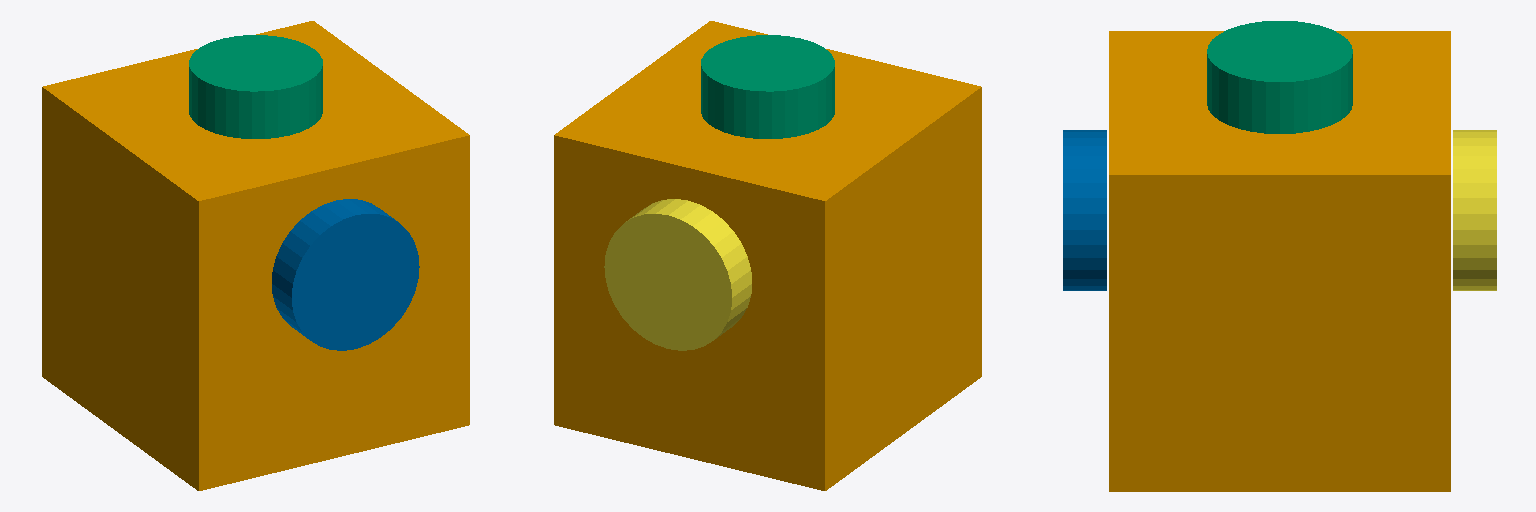
URDF robot description (TurtleBot3Burger):
<?xml version="1.0" ?>
<robot name="TurtleBot3Burger">
    <link name="base_link">
        <visual>
            <origin xyz="0 0 0" rpy="0 0 0"/>
            <geometry>
                <box size="0.140 0.140 0.143"/>
            </geometry>
        </visual>
        <collision>
            <origin xyz="0 0 0" rpy="0 0 0"/>
            <geometry>
                <box size="0.140 0.140 0.143"/>
            </geometry>
        </collision>
        <inertial>
            <mass value="1.0"/>
            <inertia ixx="0.01" ixy="0.0" ixz="0.0" iyy="0.01" iyz="0.0" izz="0.01"/>
        </inertial>
    </link>

    <link name="base_footprint"/>
    <joint name="base_joint" type="fixed">
        <parent link="base_link"/>
        <child link="base_footprint"/>
        <origin xyz="0 0 0" rpy="0 0 0"/>
    </joint>

    <link name="base_scan">
        <visual>
            <origin xyz="0 0 0" rpy="0 0 0"/>
            <geometry>
                <cylinder length="0.03" radius="0.03"/>
            </geometry>
        </visual>
    </link>
    <joint name="scan_joint" type="fixed">
        <parent link="base_link"/>
        <child link="base_scan"/>
        <origin xyz="0 0 0.08" rpy="0 0 0"/>
    </joint>

    <link name="wheel_left_link">
        <visual>
            <origin xyz="0 0 0" rpy="1.57 0 0"/>
            <geometry>
                <cylinder length="0.018" radius="0.033"/>
            </geometry>
        </visual>
        <collision>
            <origin xyz="0 0 0" rpy="1.57 0 0"/>
            <geometry>
                <cylinder length="0.018" radius="0.033"/>
            </geometry>
        </collision>
        <inertial>
            <mass value="0.1"/>
            <inertia ixx="0.001" ixy="0" ixz="0" iyy="0.001" iyz="0" izz="0.001"/>
        </inertial>
    </link>

    <joint name="wheel_left_joint" type="continuous">
        <parent link="base_link"/>
        <child link="wheel_left_link"/>
        <origin xyz="0.0 0.08 0.023" rpy="0 0 0"/>
        <axis xyz="0 1 0"/>
    </joint>

    <link name="wheel_right_link">
        <visual>
            <origin xyz="0 0 0" rpy="1.57 0 0"/>
            <geometry>
                <cylinder length="0.018" radius="0.033"/>
            </geometry>
        </visual>
        <collision>
            <origin xyz="0 0 0" rpy="1.57 0 0"/>
            <geometry>
                <cylinder length="0.018" radius="0.033"/>
            </geometry>
        </collision>
        <inertial>
            <mass value="0.1"/>
            <inertia ixx="0.001" ixy="0" ixz="0" iyy="0.001" iyz="0" izz="0.001"/>
        </inertial>
    </link>

    <joint name="wheel_right_joint" type="continuous">
        <parent link="base_link"/>
        <child link="wheel_right_link"/>
        <origin xyz="0.0 -0.08 0.023" rpy="0 0 0"/>
        <axis xyz="0 1 0"/>
    </joint>

    <link name="caster_back_link">
        <collision>
            <origin xyz="0 0.001 0" rpy="0 0 0"/>
            <geometry>
                <box size="0.030 0.009 0.020"/>
            </geometry>
        </collision>
    </link>
    <joint name="caster_back_joint" type="fixed">
        <parent link="base_link"/>
        <child link="caster_back_link"/>
        <origin xyz="-0.081 0 -0.004" rpy="0 0 0"/>
    </joint>

    <ros2_control name="WebotsControl" type="system">
        <hardware>
            <plugin>webots_ros2_control::Ros2ControlSystem</plugin>
        </hardware>
        
        <joint name="wheel_left_joint">
            <state_interface name="position"/>
            <state_interface name="velocity"/>  <command_interface name="velocity"/>
        </joint>
        
        <joint name="wheel_right_joint">
            <state_interface name="position"/>
            <state_interface name="velocity"/>  <command_interface name="velocity"/>
        </joint>
    </ros2_control>
</robot>

--- Render facts (derived) ---
3 views of the same robot in one strip: view 1: azimuth 30°, elevation 25°; view 2: azimuth 150°, elevation 25°; view 3: azimuth 270°, elevation 25° (orthographic).
Model TurtleBot3Burger with 6 links and 5 joints (2 continuous, 3 fixed), rooted at base_link, posed all joints at 0.
Links seen in each view (by area): view 1: base_link, wheel_right_link, base_scan; view 2: base_link, wheel_left_link, base_scan; view 3: base_link, base_scan, wheel_left_link, wheel_right_link.
Link boxes in pixels (x1,y1,x2,y2): base_link: [42, 21, 469, 490]; wheel_right_link: [272, 199, 419, 350]; base_scan: [189, 35, 322, 138]; base_link: [554, 21, 981, 490]; wheel_left_link: [604, 199, 751, 350]; base_scan: [701, 35, 834, 138]; base_link: [1109, 31, 1450, 491]; base_scan: [1207, 21, 1352, 133]; wheel_left_link: [1453, 130, 1496, 290]; wheel_right_link: [1063, 130, 1106, 290].
Bounding box of the posed robot: 0.14 × 0.1781 × 0.1665 m (x, y, z).
Geometry: primitives only (box / cylinder / sphere), no mesh files.